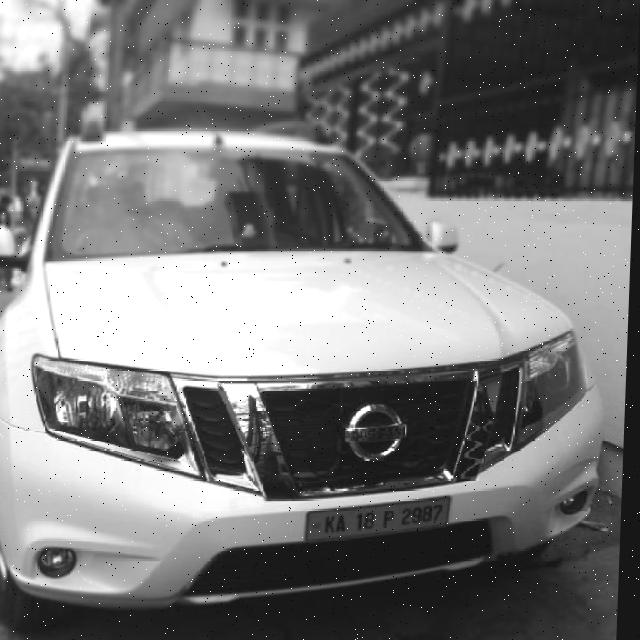plate: (306, 495, 456, 541)
